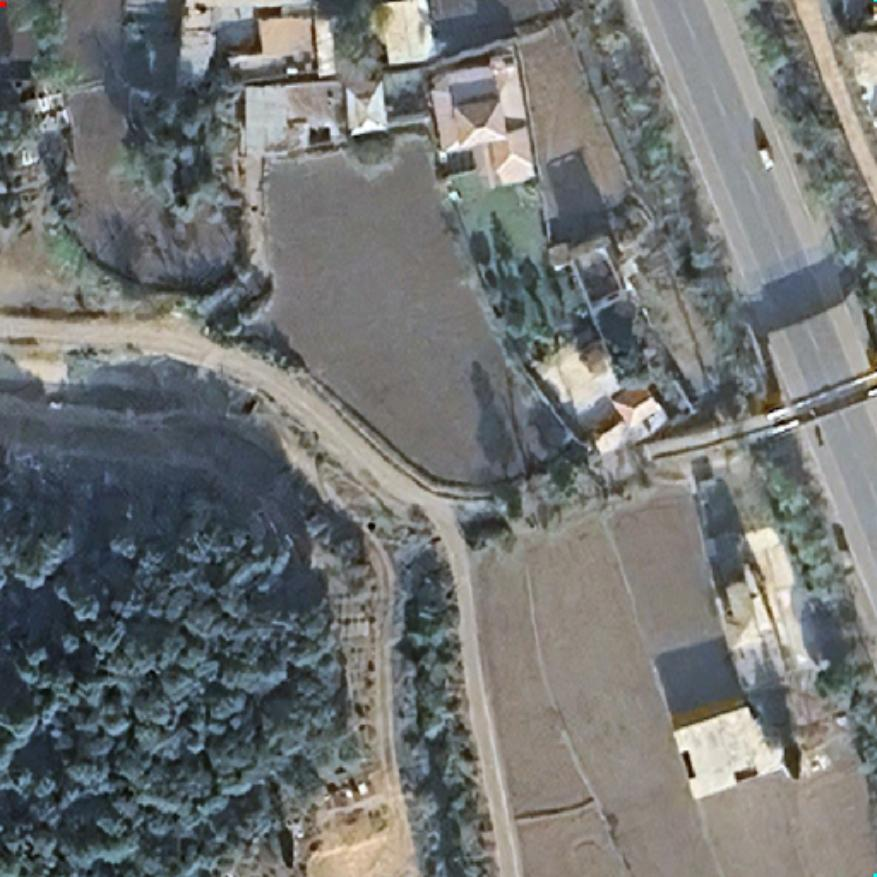Solarpanel: (439, 148, 479, 178)
